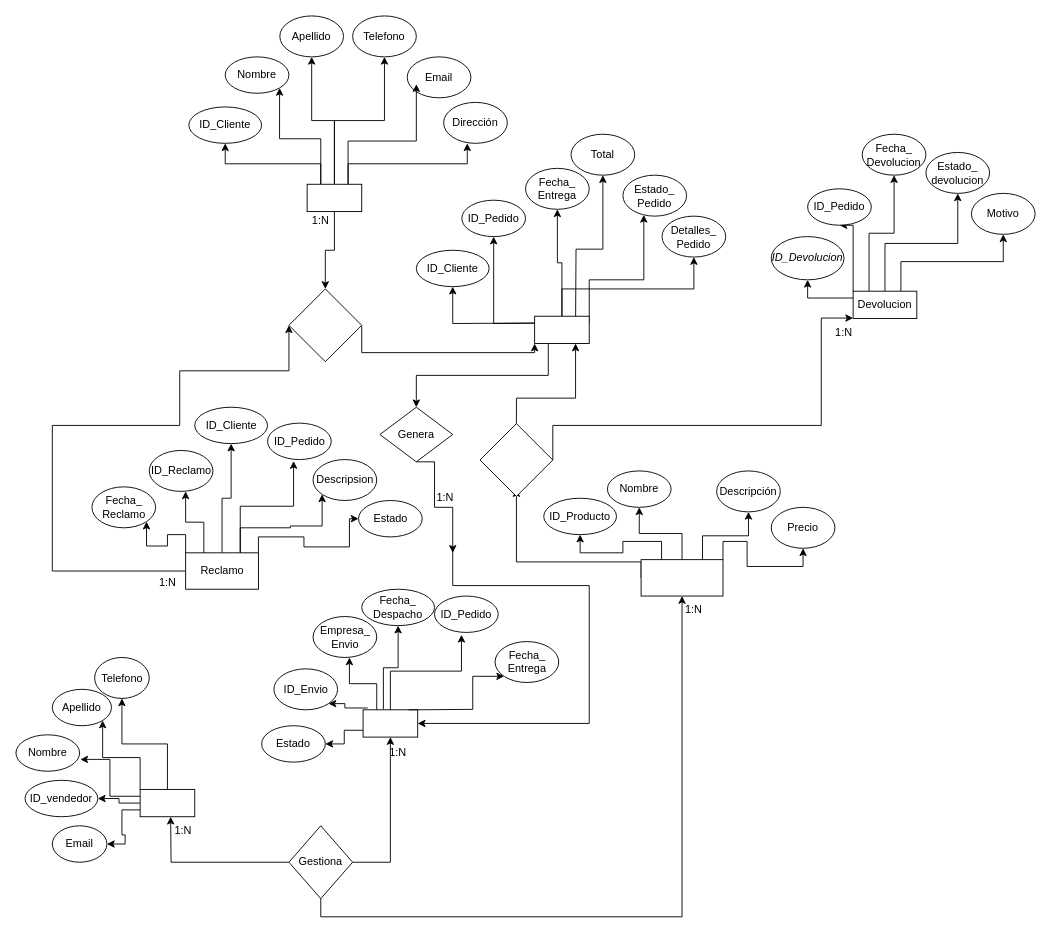
The diagram is 1051 pixels wide and 940 high, and some of its shapes have lost their labels. Each missing label, with the centre of its shape:
Cliente: point 334,197
Envío: point 390,723
Hace: point 325,325
pedido: point 561,329
producto: point 681,577
tiene: point 516,459
Vendedor: point 167,803
